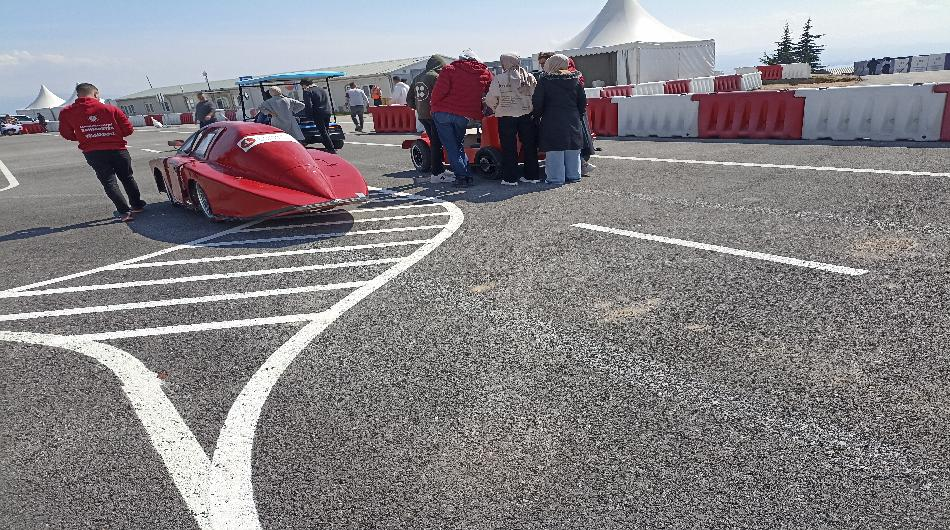yol_calismasi: (63, 177, 528, 526)
